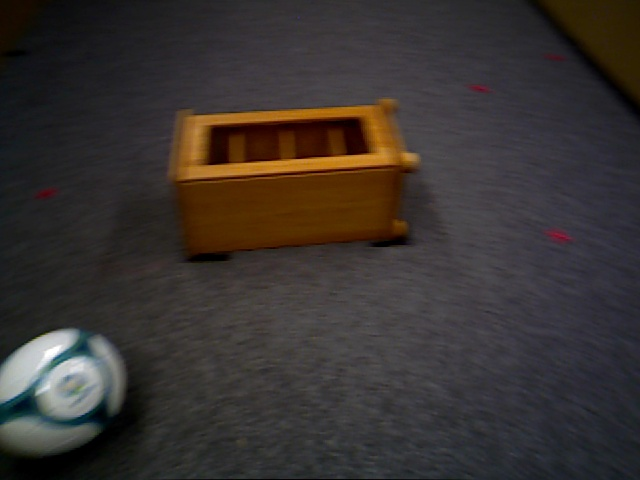kick: (1, 327, 127, 455)
